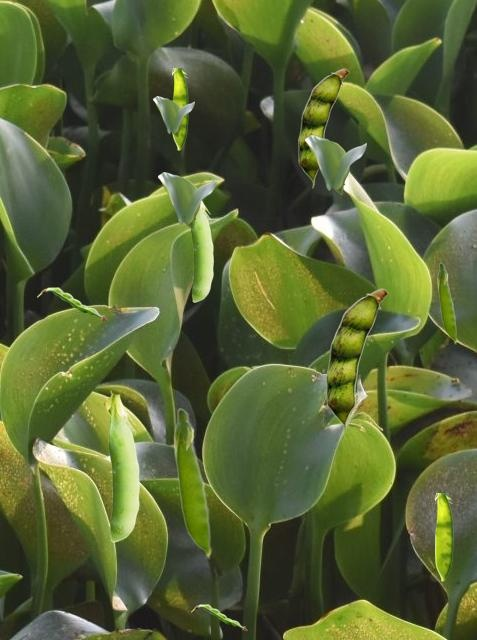pea: (326, 288, 387, 433), (298, 68, 348, 187), (173, 407, 211, 558), (102, 390, 138, 541), (37, 287, 106, 319), (190, 201, 212, 301), (437, 262, 456, 343), (435, 493, 452, 580), (191, 604, 246, 629), (172, 68, 187, 149)
